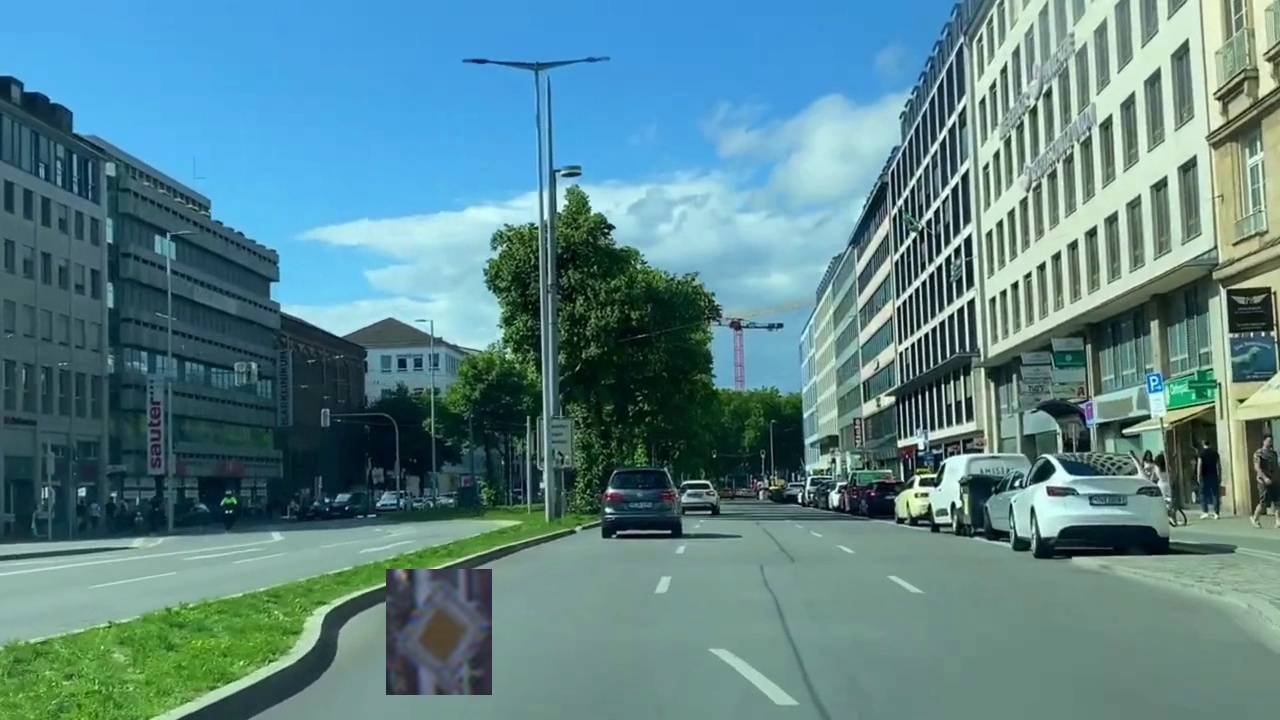Priority road: (386, 569, 492, 695)
